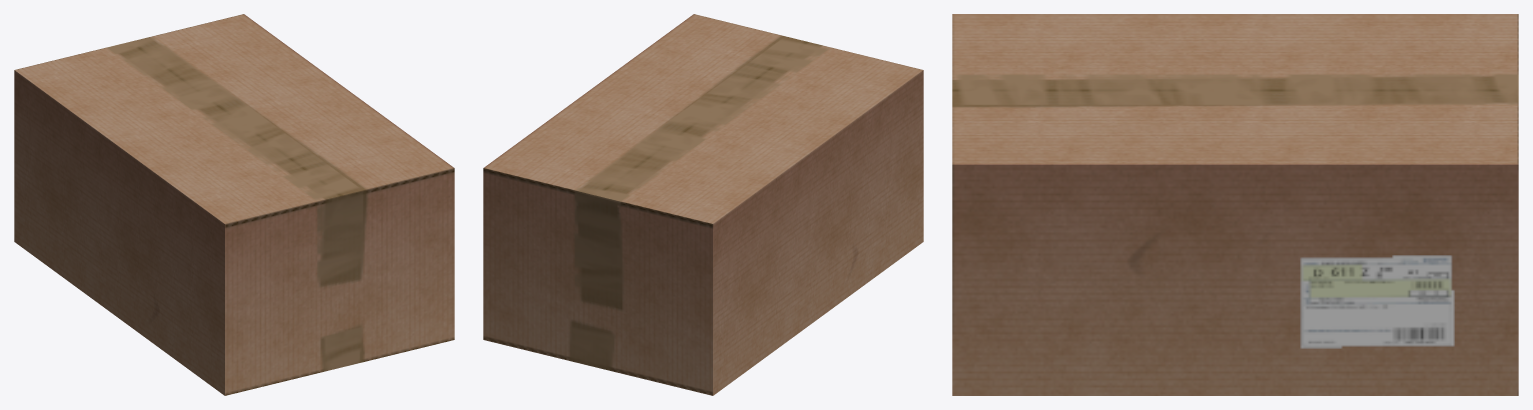
3 views of the same model, side by side, from view 1: azimuth 30°, elevation 25°; view 2: azimuth 150°, elevation 25°; view 3: azimuth 270°, elevation 25° (orthographic). The views are drawn at different scales.
Parts seen in each view (by area): view 1: Box; view 2: Box; view 3: Box.
Boxes of the visible parts, x1=… form: Box: x1=14, y1=14, x2=454, y2=395; Box: x1=483, y1=14, x2=923, y2=395; Box: x1=952, y1=14, x2=1518, y2=395.
Bounding box in the file's own units: 0.5002 × 0.3574 × 0.7939.
Materials: 1 (1 with a texture image).
